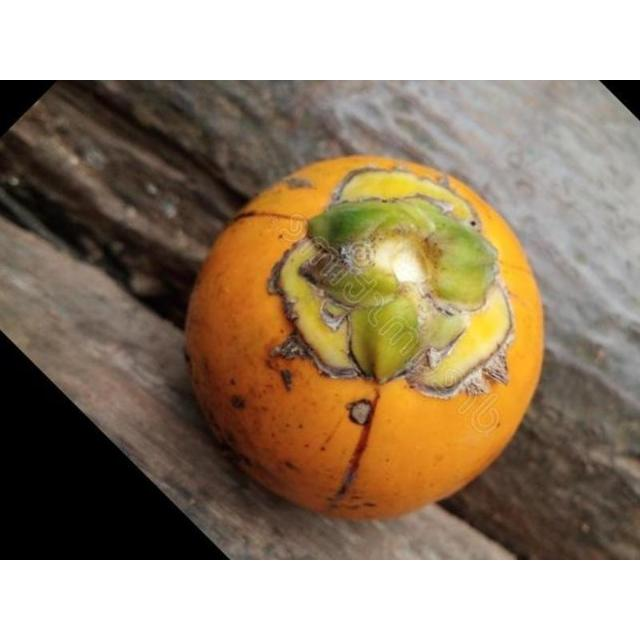good: (182, 155, 546, 522)
